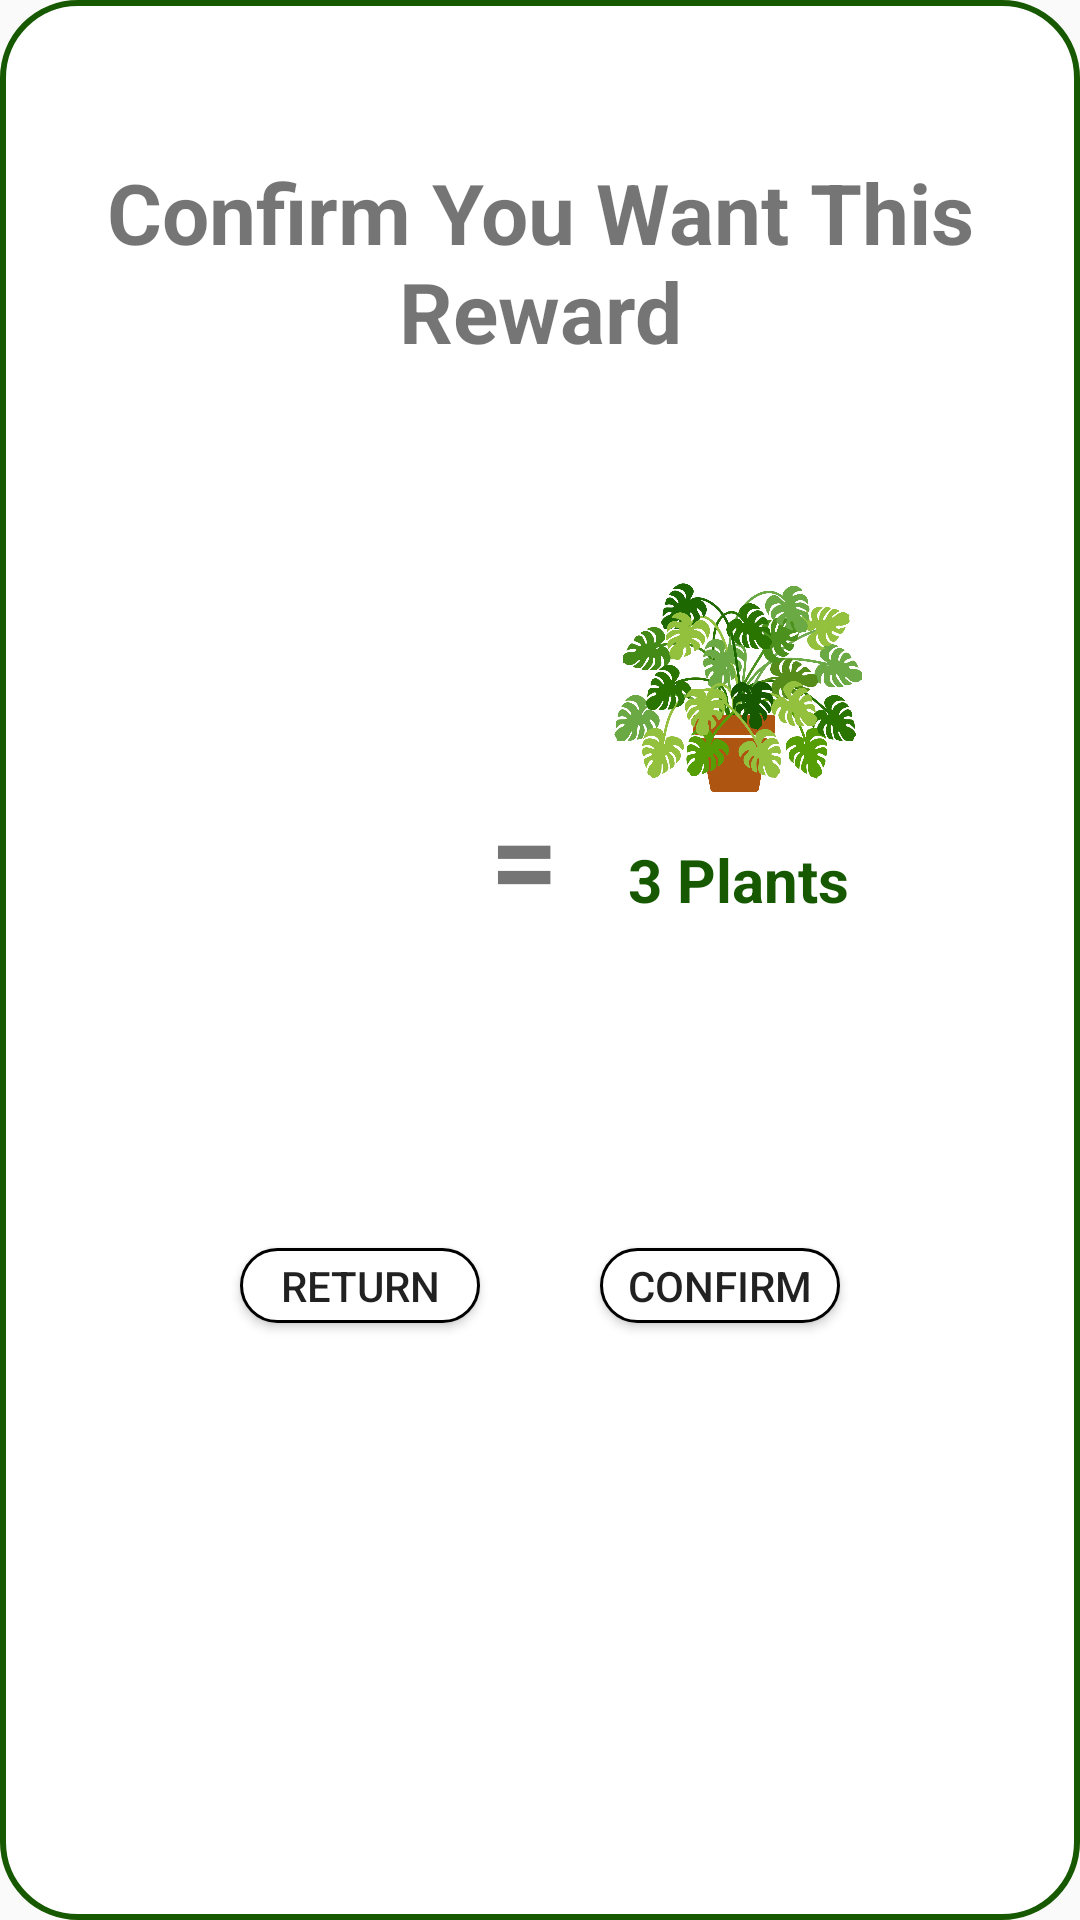

Screen size 1080×1920. Icon name, then its center in pixels as point (x, y):
stampsheet leaves: point (738, 687)
